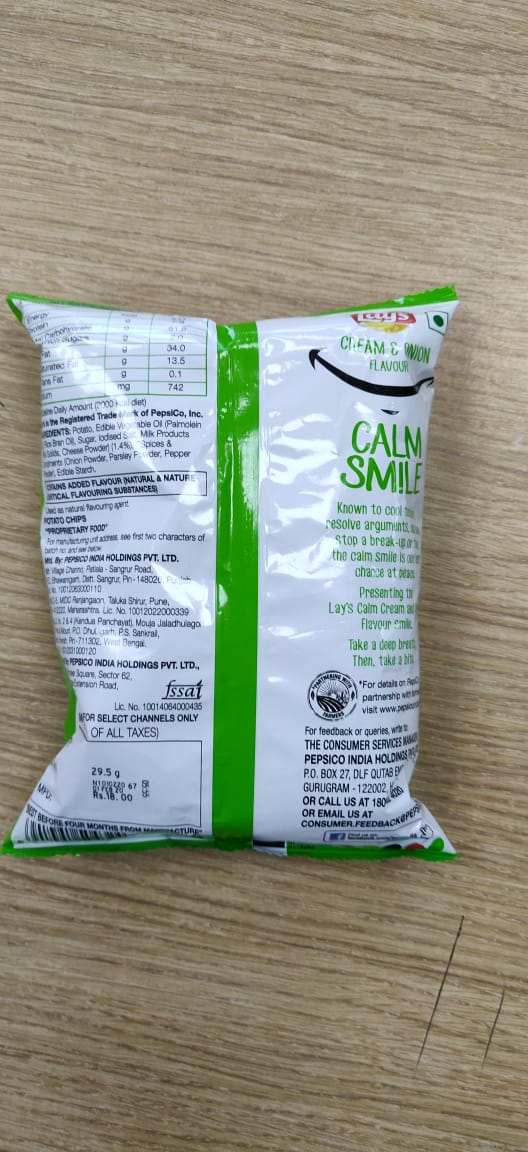lays chips: (1, 256, 491, 911)
